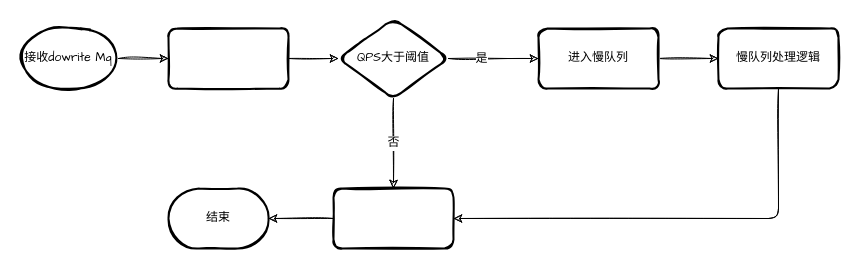
Image size: 856x266. Some labels were removed from this diagram. The shapes that lost their labels are listed below. From the top down, each one's box as (x1, y1, x2, y2) in pixels, then its label:
(167, 27, 289, 89): 计算QPS
(332, 187, 454, 249): 处理事件
